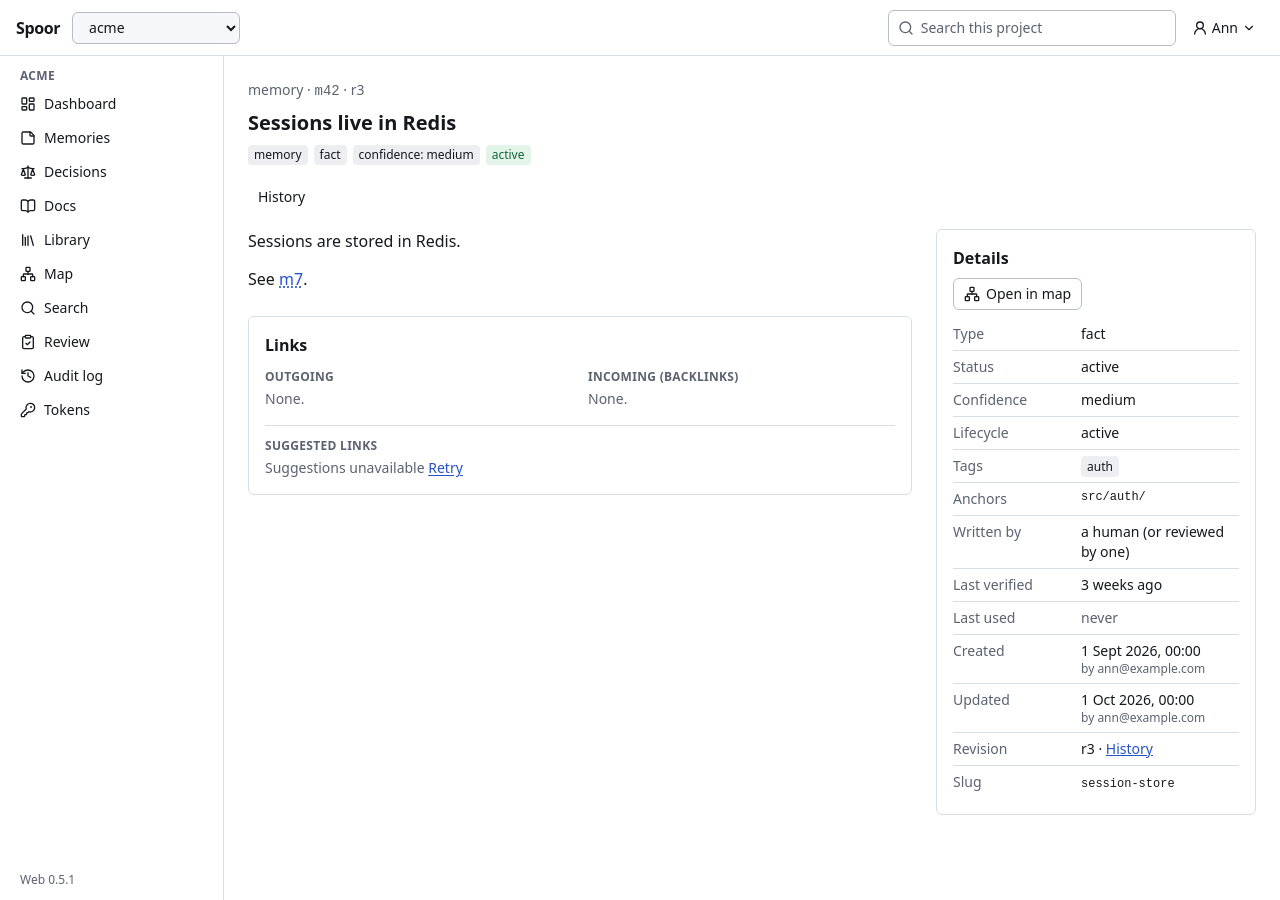
Test case: LinksPanel suggested links › shows one muted line with Retry when suggestions fail, and retries
expect the text "Suggestions unavailable Retry" is shown: met, box [265,458,463,478]
Click the button "Retry". click: (446,468)
box: [428,458,463,478]
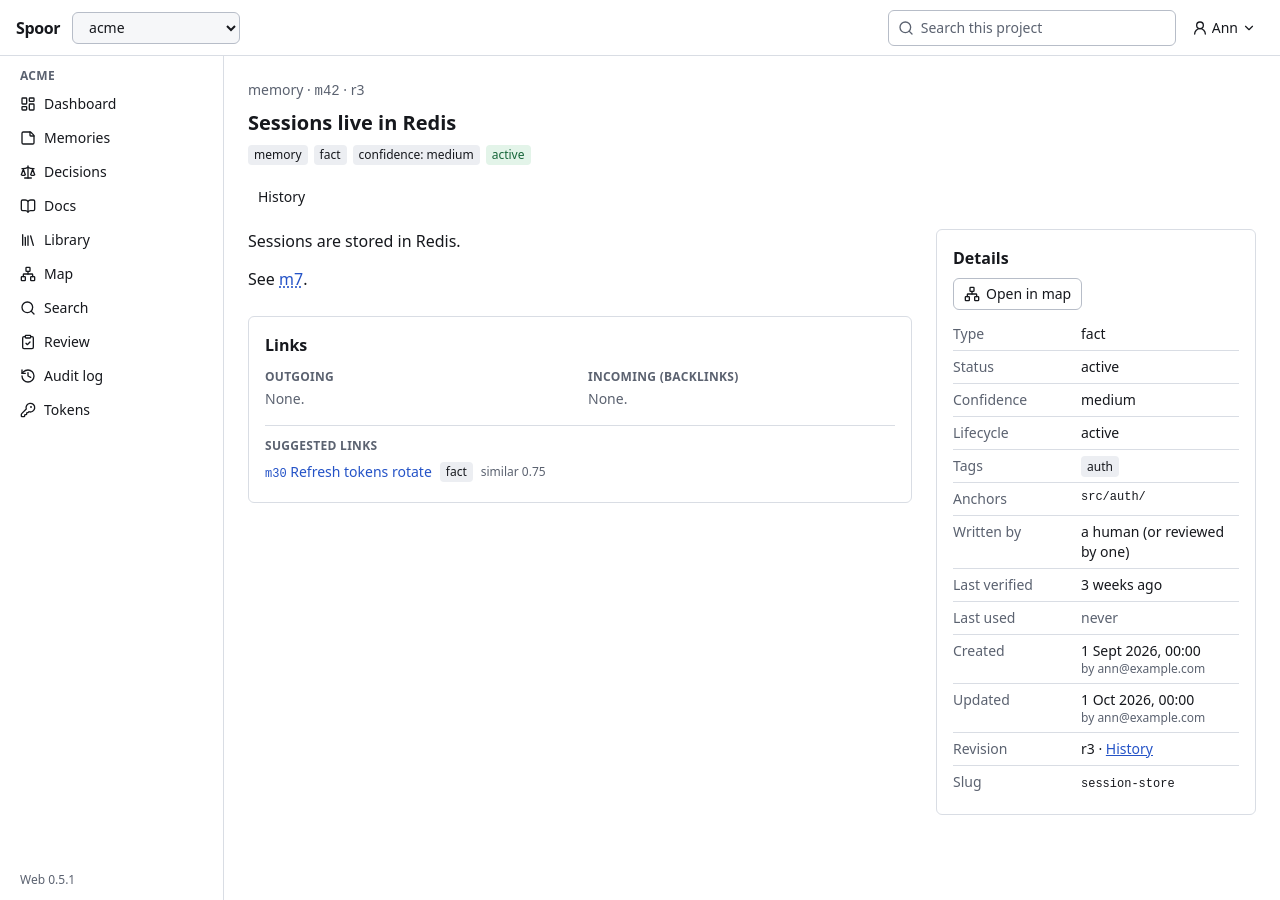
expect the text "similar 0.75" is shown: met, box [481,464,546,480]
